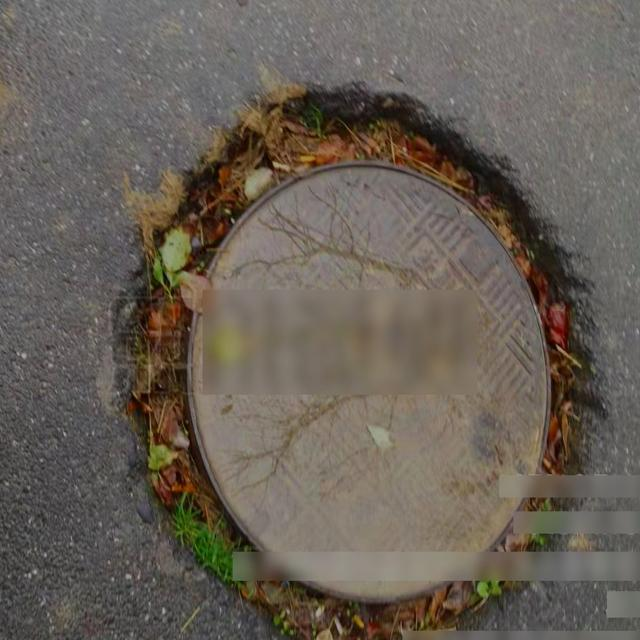circle: (112, 90, 610, 640)
